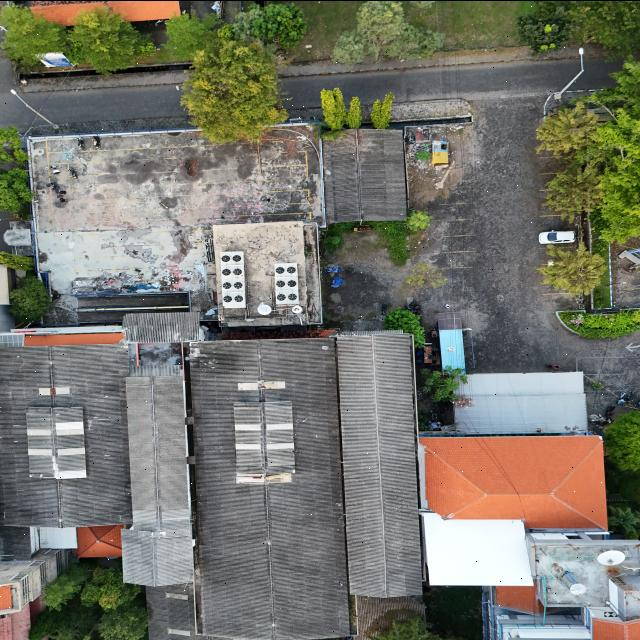Tree: (535, 232, 612, 308), (530, 96, 608, 160), (538, 170, 606, 218), (0, 155, 46, 217), (372, 218, 412, 266)
